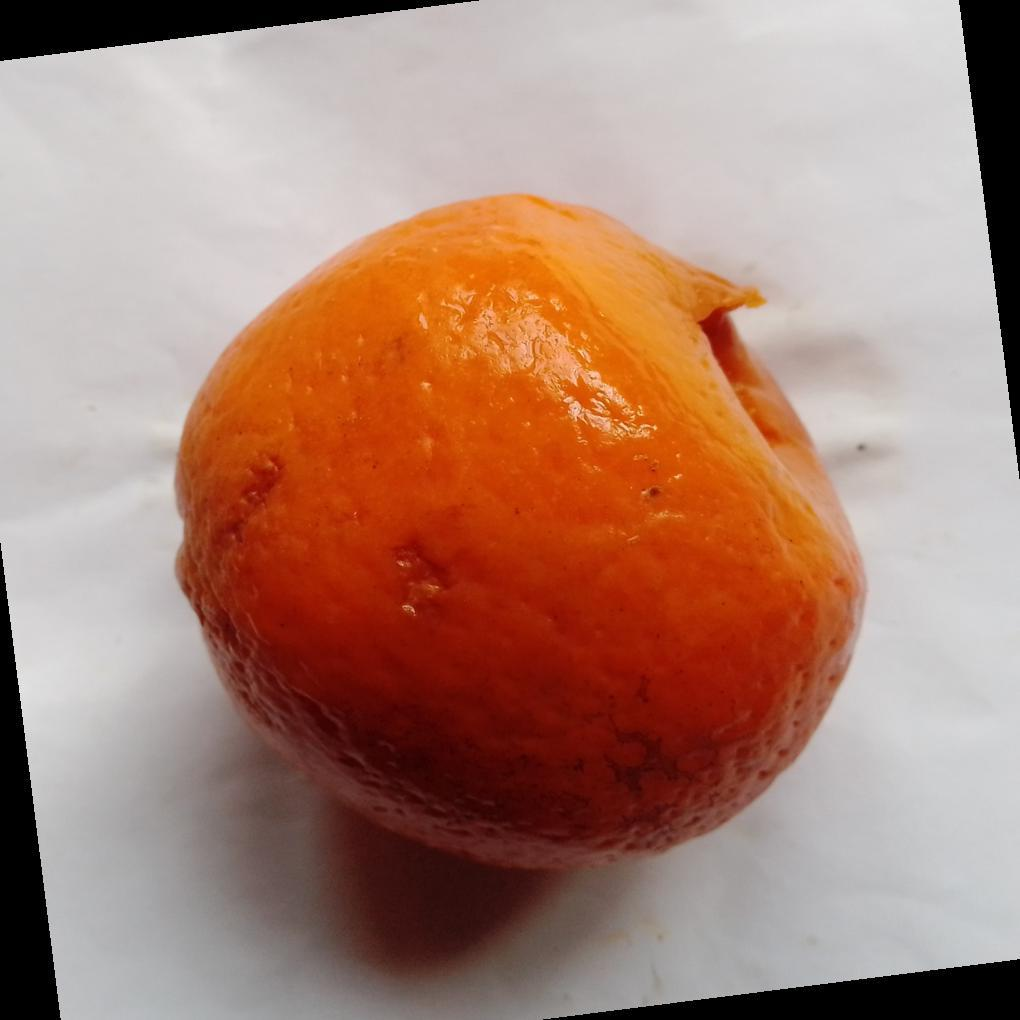FreshOrange: (172, 194, 868, 878)
